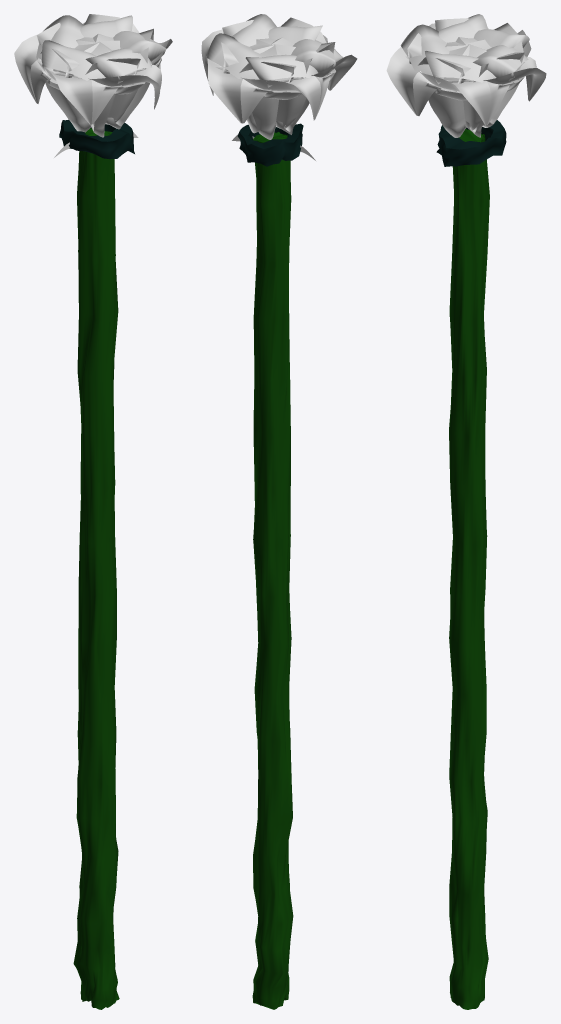
The model's file is Closed_flower.FBX.
3 renders of one model, left to right at view 1: azimuth 30°, elevation 25°; view 2: azimuth 150°, elevation 25°; view 3: azimuth 270°, elevation 25°, orthographic.
Visible parts, largest first — view 1: Stem, petal002, petal003, petal001, petal004, Donut001, petal; view 2: Stem, petal, petal001, petal002, Donut001, petal004, petal003; view 3: Stem, petal004, petal003, petal, Donut001, petal001, petal002.
Boxes of the visible parts, x1,y1,x2,y2 form: Stem: [73, 128, 119, 1009]; petal002: [36, 15, 153, 132]; petal003: [42, 14, 161, 137]; petal001: [14, 15, 140, 126]; petal004: [36, 22, 172, 129]; Donut001: [59, 119, 134, 159]; petal: [40, 22, 166, 77]; Stem: [252, 132, 293, 1009]; petal: [207, 14, 335, 133]; petal001: [206, 17, 335, 139]; petal002: [222, 20, 357, 134]; Donut001: [237, 123, 303, 166]; petal004: [201, 25, 322, 95]; petal003: [221, 35, 335, 73]; Stem: [449, 129, 489, 1009]; petal004: [400, 23, 524, 137]; petal003: [386, 14, 524, 130]; petal: [425, 18, 546, 137]; Donut001: [436, 120, 506, 166]; petal001: [407, 30, 531, 127]; petal002: [418, 23, 529, 91].
Size of the model in its own units: 0.4875 by 0.5058 by 3.36.
